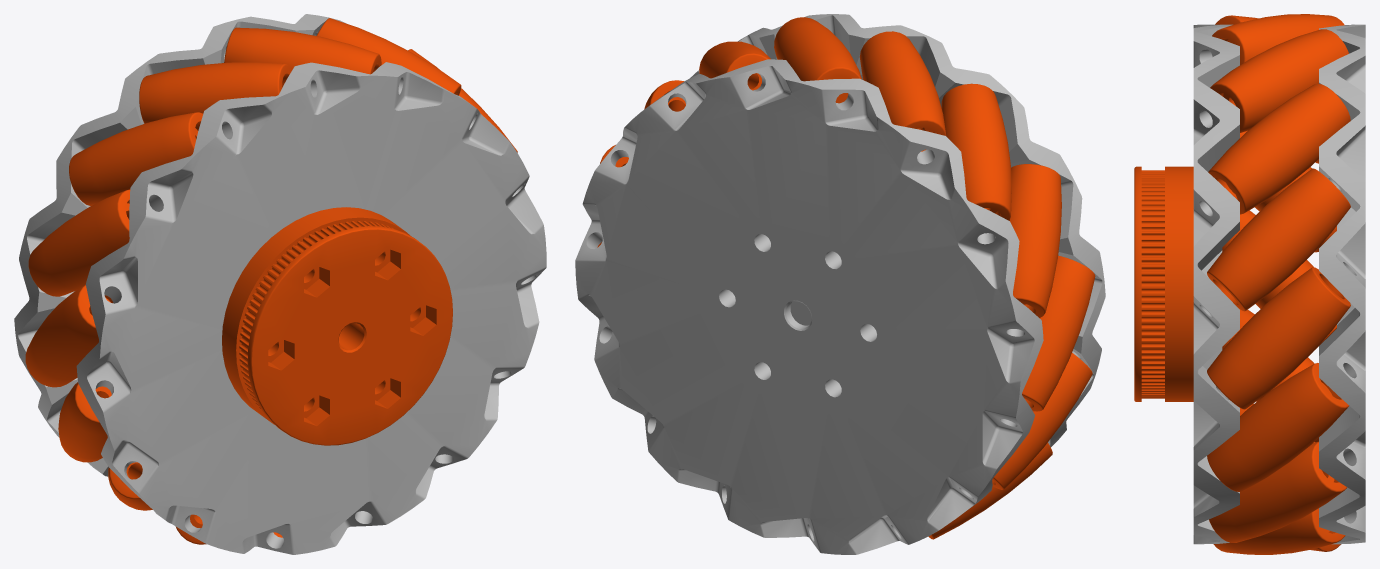
Rendered from wheel_back_left_1.dae.
The picture shows the model from 3 angles, left to right: view 1: azimuth 30°, elevation 25°; view 2: azimuth 150°, elevation 25°; view 3: azimuth 270°, elevation 25°; orthographic projection.
Visible parts, largest first — view 1: wheel_back_left_1; view 2: wheel_back_left_1; view 3: wheel_back_left_1.
Boxes of the visible parts, left/top/right/bottom form: wheel_back_left_1: left=14, top=14, right=546, bottom=554; wheel_back_left_1: left=575, top=14, right=1105, bottom=554; wheel_back_left_1: left=1134, top=14, right=1365, bottom=554.
Bounding box in the file's own units: 151 × 64.5 × 151.
